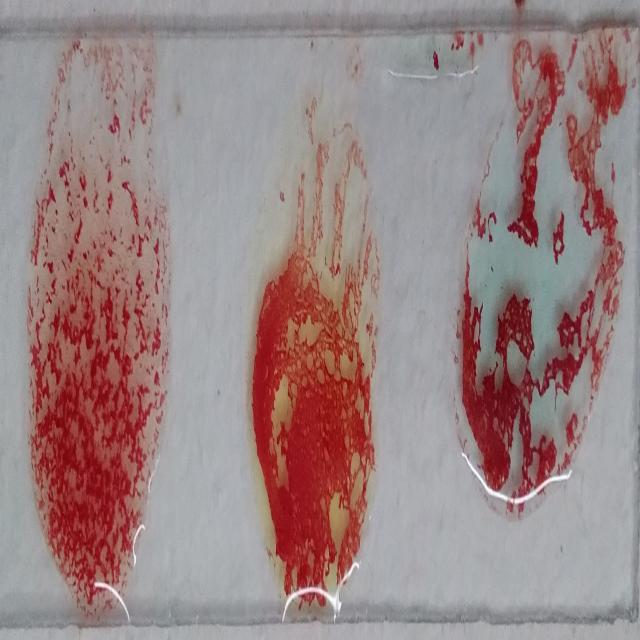A: (464, 50, 622, 508)
B: (256, 122, 380, 608)
D: (33, 37, 164, 624)
